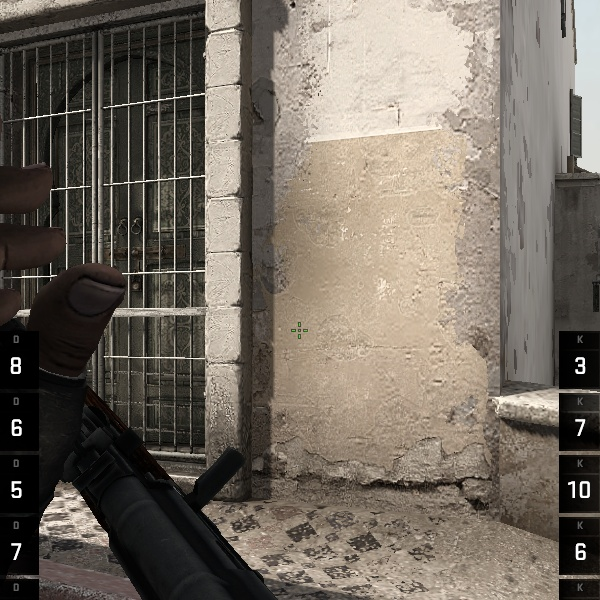ct_body: (2, 247, 182, 600)
